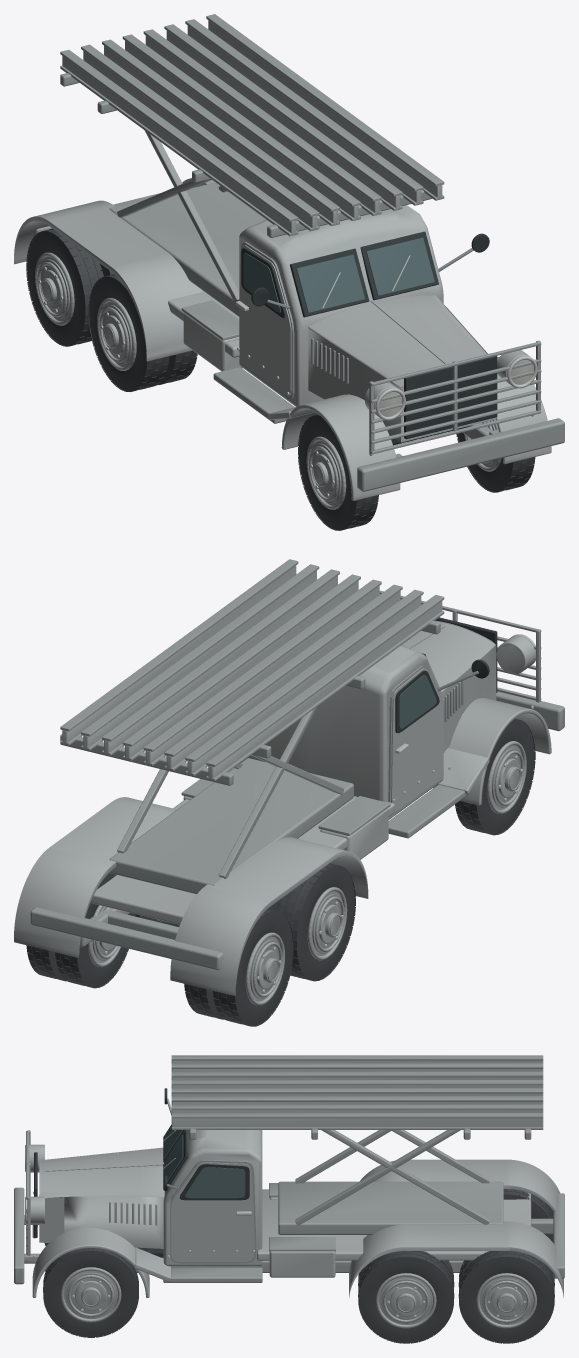
3 views of the same model, one above another, from view 1: azimuth 30°, elevation 25°; view 2: azimuth 150°, elevation 25°; view 3: azimuth 270°, elevation 25° (orthographic). The views are drawn at different scales.
Visible parts, largest first — view 1: BM13_Crowned_Tapered_Hood, BM13_Continuous_Rear_Fender, BM13_Integrated_Curved_Cab, BM13_Rack_Closed_Base, BM13_Front_Bumper, BM13_Front_Fender, BM13_Contoured_Door_Face, BM13_PGF_Tire.007, BM13_Radiator_Dark_Face, BM13_PGF_Tire.003, BM13_PGF_Tire, BM13_Sloped_Windscreen_Glass (+41 smaller); view 2: BM13_Rack_Closed_Base, BM13_Continuous_Rear_Fender, BM13_Integrated_Curved_Cab, BM13_Continuous_Rear_Fender.001, BM13_Crowned_Tapered_Hood, BM13_Contoured_Door_Face, BM13_PGF_Tire.003, BM13_Rear_Deck, BM13_Front_Fender, BM13_Rear_Bumper, BM13_PGF_Tire.007, BM13_PGF_Tire (+36 smaller); view 3: BM13_Crowned_Tapered_Hood, BM13_Rack_Closed_Base, BM13_Continuous_Rear_Fender.001, BM13_Contoured_Door_Face.001, BM13_PGF_Tire.005, BM13_PGF_Tire.009, BM13_PGF_Tire.001, BM13_Integrated_Curved_Cab, BM13_Continuous_Rear_Fender, BM13_Empty_Art_Rail.007, BM13_Rear_Deck, BM13_Empty_Art_Rail_Top.002 (+48 smaller).
Part boxes in pixels (x1=…): BM13_Crowned_Tapered_Hood: x1=308, y1=295, x2=496, y2=442; BM13_Continuous_Rear_Fender: x1=14, y1=200, x2=202, y2=361; BM13_Integrated_Curved_Cab: x1=239, y1=205, x2=443, y2=406; BM13_Rack_Closed_Base: x1=109, y1=182, x2=265, y2=316; BM13_Front_Bumper: x1=357, y1=418, x2=564, y2=491; BM13_Front_Fender: x1=281, y1=394, x2=400, y2=500; BM13_Contoured_Door_Face: x1=239, y1=245, x2=291, y2=396; BM13_PGF_Tire.007: x1=26, y1=228, x2=103, y2=346; BM13_Radiator_Dark_Face: x1=404, y1=356, x2=497, y2=439; BM13_PGF_Tire.003: x1=88, y1=274, x2=169, y2=391; BM13_PGF_Tire: x1=298, y1=414, x2=378, y2=530; BM13_Sloped_Windscreen_Glass: x1=296, y1=254, x2=364, y2=312; BM13_Rack_Closed_Base: x1=109, y1=758, x2=353, y2=894; BM13_Continuous_Rear_Fender: x1=170, y1=837, x2=368, y2=995; BM13_Integrated_Curved_Cab: x1=241, y1=645, x2=443, y2=819; BM13_Continuous_Rear_Fender.001: x1=14, y1=797, x2=176, y2=957; BM13_Crowned_Tapered_Hood: x1=402, y1=620, x2=496, y2=751; BM13_Contoured_Door_Face: x1=391, y1=668, x2=443, y2=810; BM13_PGF_Tire.003: x1=278, y1=863, x2=355, y2=981; BM13_Rear_Deck: x1=91, y1=796, x2=394, y2=924; BM13_Front_Fender: x1=433, y1=698, x2=551, y2=805; BM13_Rear_Bumper: x1=30, y1=907, x2=222, y2=970; BM13_PGF_Tire.007: x1=213, y1=908, x2=293, y2=1026; BM13_PGF_Tire: x1=455, y1=718, x2=535, y2=835; BM13_Crowned_Tapered_Hood: x1=38, y1=1147, x2=164, y2=1248; BM13_Rack_Closed_Base: x1=278, y1=1181, x2=503, y2=1234; BM13_Continuous_Rear_Fender.001: x1=349, y1=1221, x2=563, y2=1297; BM13_Contoured_Door_Face.001: x1=171, y1=1162, x2=254, y2=1261; BM13_PGF_Tire.005: x1=358, y1=1251, x2=454, y2=1343; BM13_PGF_Tire.009: x1=458, y1=1251, x2=554, y2=1343; BM13_PGF_Tire.001: x1=43, y1=1248, x2=138, y2=1337; BM13_Integrated_Curved_Cab: x1=163, y1=1130, x2=262, y2=1266; BM13_Continuous_Rear_Fender: x1=359, y1=1159, x2=559, y2=1211; BM13_Empty_Art_Rail.007: x1=171, y1=1118, x2=543, y2=1127; BM13_Rear_Deck: x1=257, y1=1189, x2=531, y2=1260; BM13_Empty_Art_Rail_Top.002: x1=171, y1=1071, x2=543, y2=1077.
Bounding box in the file's own units: 3.64 × 3.93 × 9.04.
